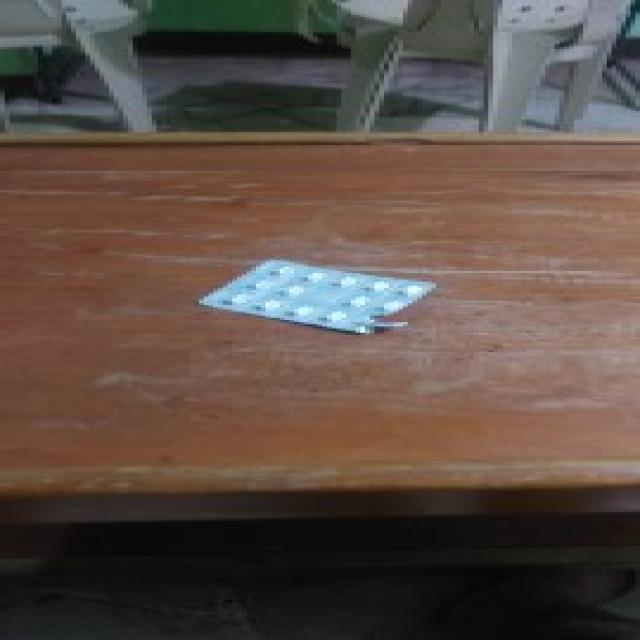Cacat: (202, 258, 444, 335)
Kemasan: (348, 306, 424, 334)
